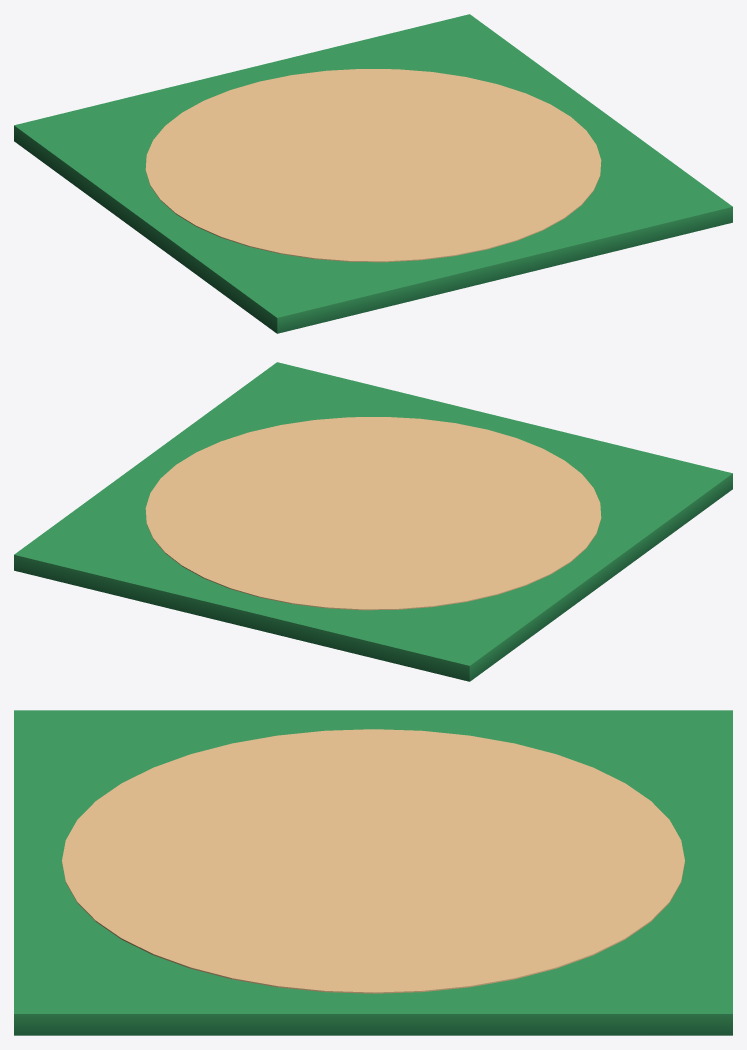
Rendered from plaza_circulo.glb.
3 views of the same model, one above another, from view 1: azimuth 30°, elevation 25°; view 2: azimuth 150°, elevation 25°; view 3: azimuth 270°, elevation 25° (orthographic). The views are drawn at different scales.
Visible parts, largest first — view 1: plaza_circulo; view 2: plaza_circulo; view 3: plaza_circulo.
Part boxes in pixels (x1=…): plaza_circulo: x1=14, y1=14, x2=732, y2=333; plaza_circulo: x1=14, y1=362, x2=732, y2=681; plaza_circulo: x1=14, y1=710, x2=732, y2=1035.
Bounding box in the file's own units: 6 × 0.212 × 6.
Materials: 1 (1 with a texture image).
